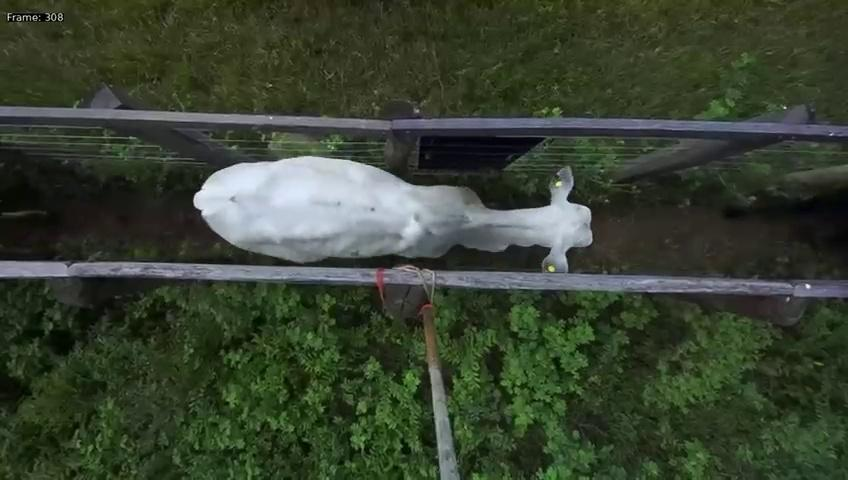cattle: (187, 135, 594, 273)
